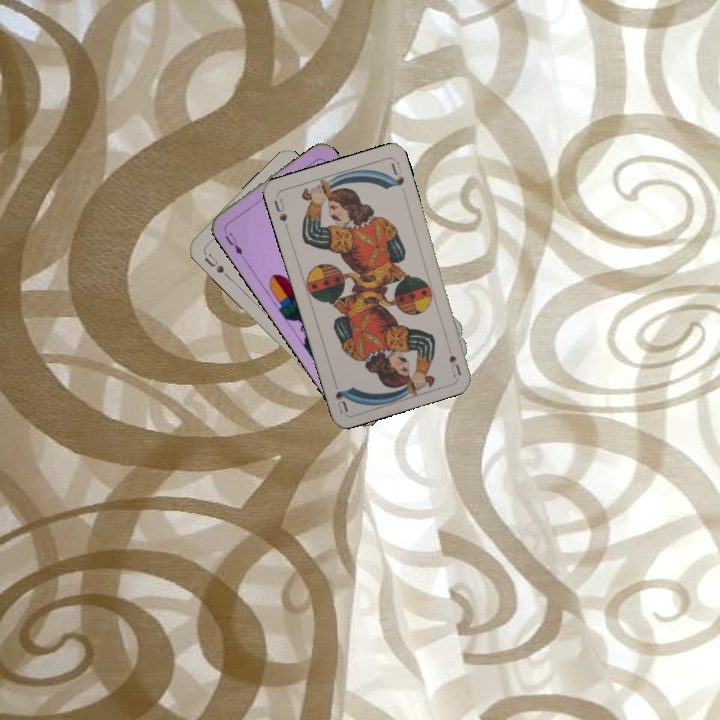EU: (220, 225, 247, 261)
SU: (270, 193, 291, 233), (200, 250, 227, 276), (445, 351, 463, 379)
